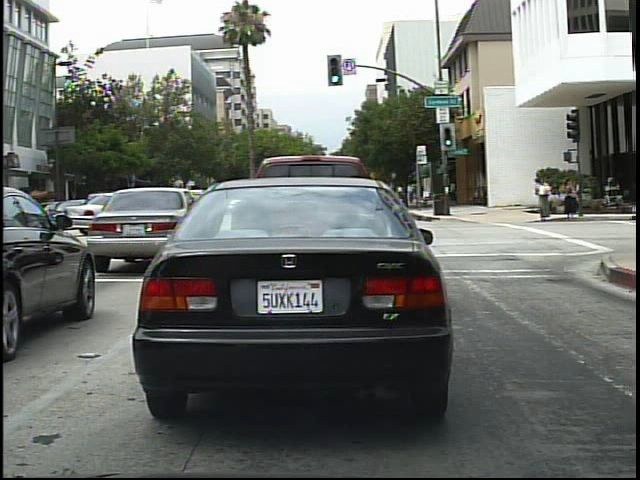person: (534, 172, 557, 226), (559, 176, 583, 223), (402, 180, 419, 212)
